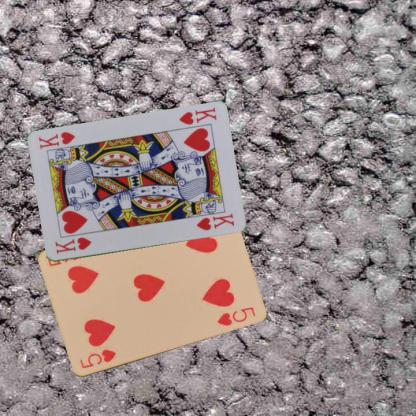5h: (78, 347, 118, 370)
Kh: (176, 105, 218, 127), (52, 234, 92, 254)
